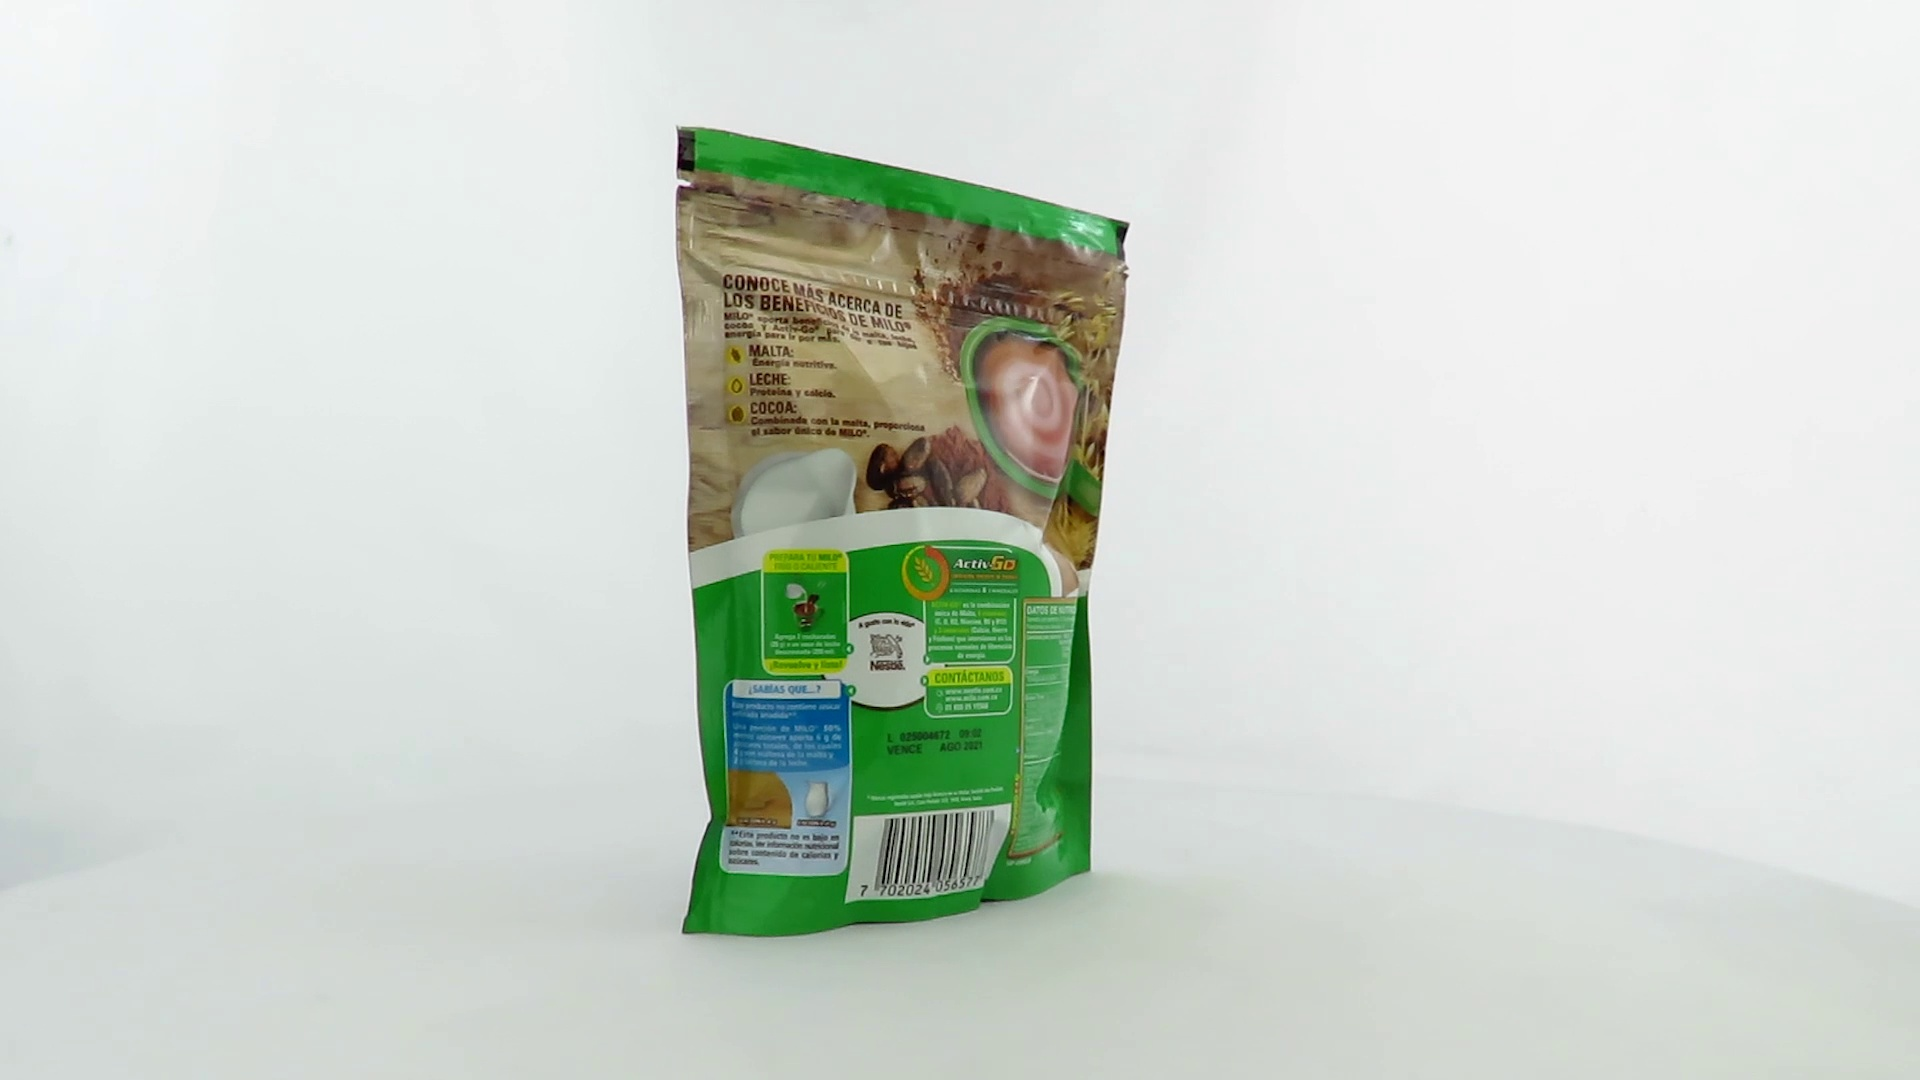COL0170205DYP20000: (670, 120, 1135, 944)
